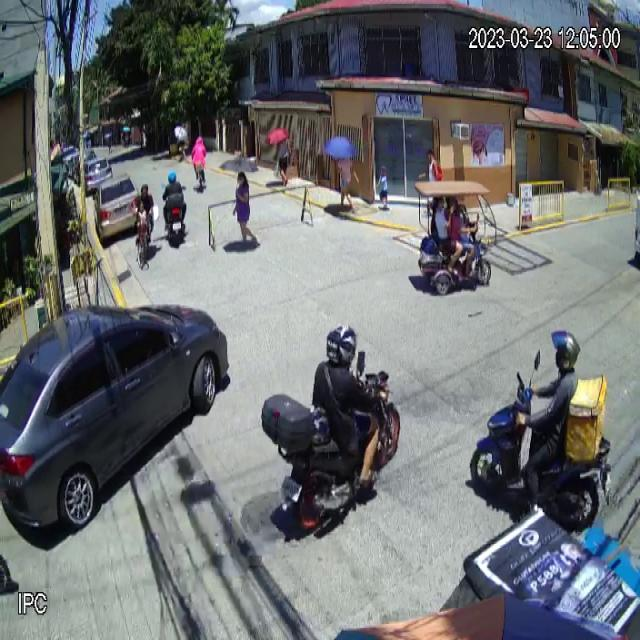Car: (0, 301, 228, 532)
Motorcycle: (470, 352, 614, 531), (260, 371, 401, 530)
